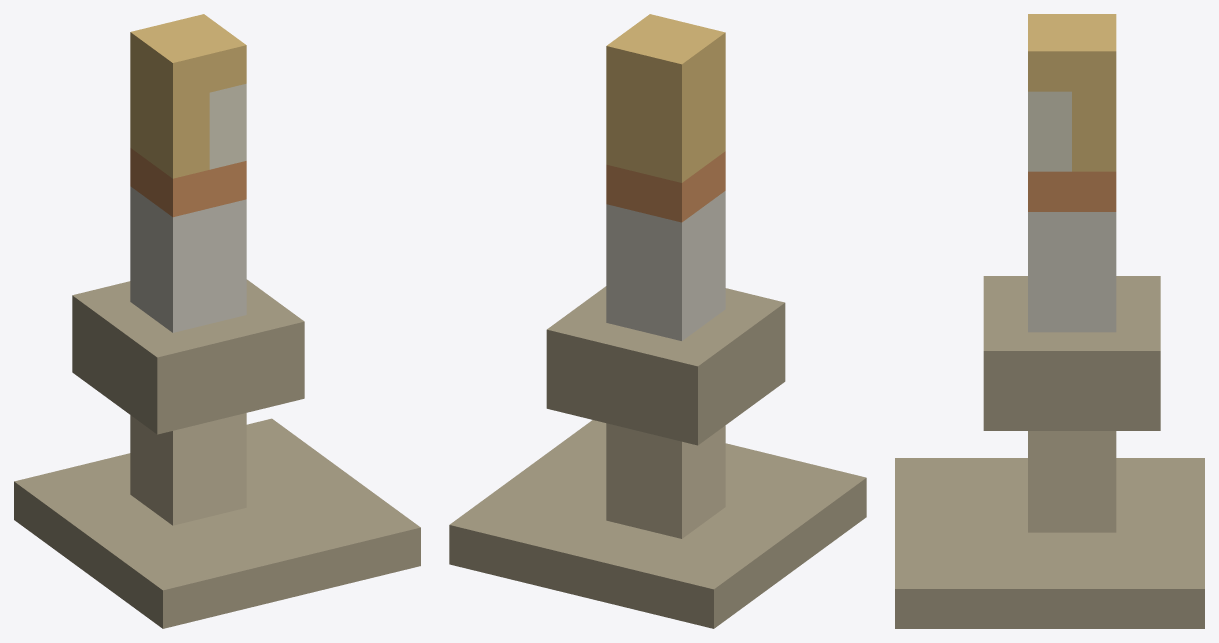
The model's file is candelero_pino_mesa_01.glb.
3 renders of one model, left to right at view 1: azimuth 30°, elevation 25°; view 2: azimuth 150°, elevation 25°; view 3: azimuth 270°, elevation 25°, orthographic. The views are drawn at different scales.
Parts seen in each view (by area): view 1: candelero_pino_mesa; view 2: candelero_pino_mesa; view 3: candelero_pino_mesa.
Part boxes in pixels (<box>): candelero_pino_mesa: <box>14,14,420,628</box>; candelero_pino_mesa: <box>449,14,866,628</box>; candelero_pino_mesa: <box>895,14,1204,628</box>.
Bounding box in the file's own units: 0.4667 × 0.8667 × 0.4667.
